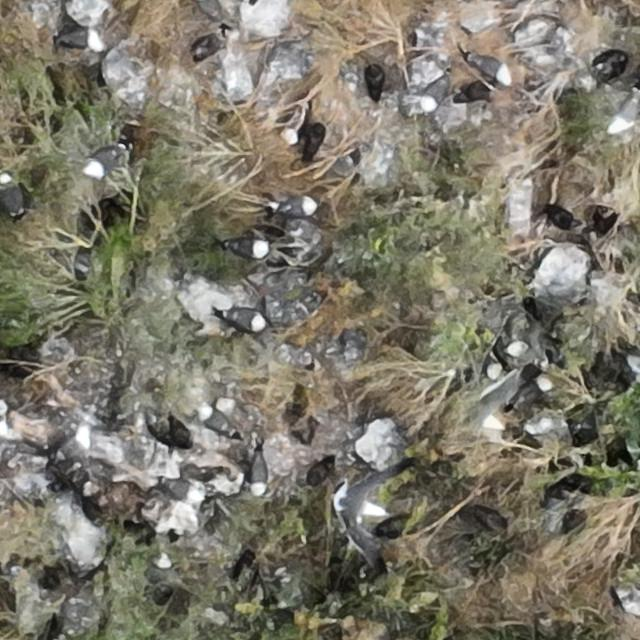F: (335, 459, 410, 556)
umineko: (470, 54, 512, 89), (418, 74, 451, 114), (609, 93, 639, 136), (283, 100, 311, 146), (61, 29, 107, 52), (162, 481, 205, 501), (64, 425, 89, 458), (537, 369, 574, 391), (2, 178, 23, 215), (225, 309, 262, 329), (510, 324, 531, 358), (89, 149, 120, 171), (484, 348, 504, 382), (231, 240, 266, 259), (251, 454, 268, 493), (279, 198, 315, 216), (203, 409, 230, 432), (627, 356, 639, 380)
